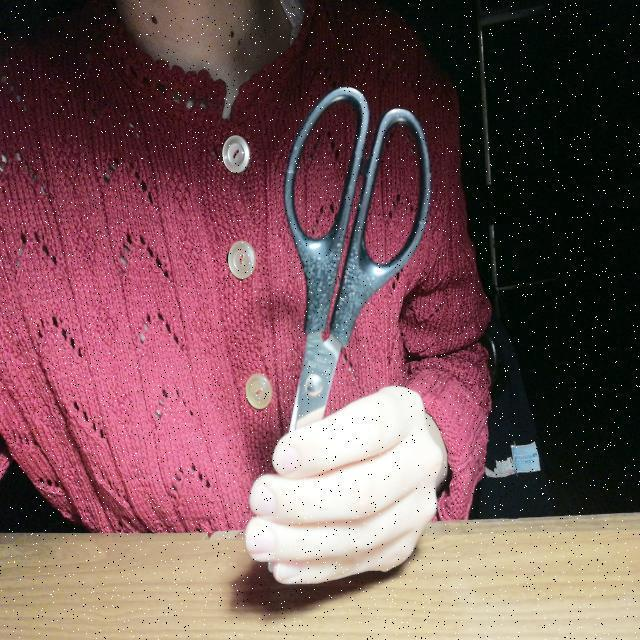scissors: (281, 80, 434, 574)
